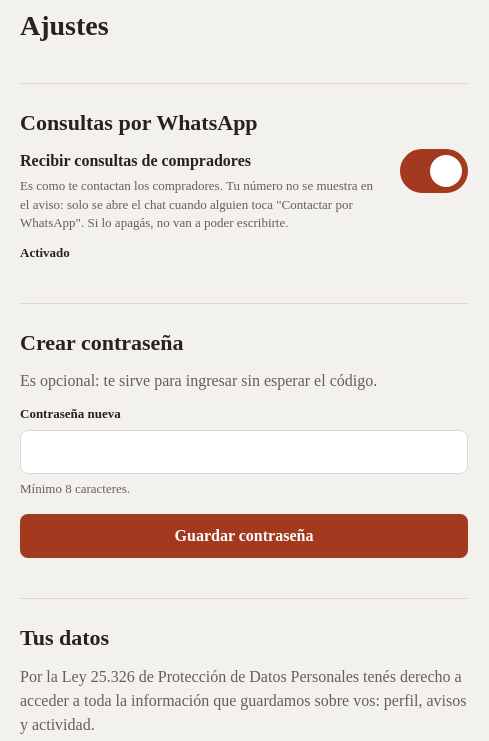
Test: /ajustes — contraseña, exportación y errores › crea la contraseña sin pedir la actual
Type "corta" into the password field labelled "Contraseña nueva" at (244, 452), box 20,430 -> 468,474
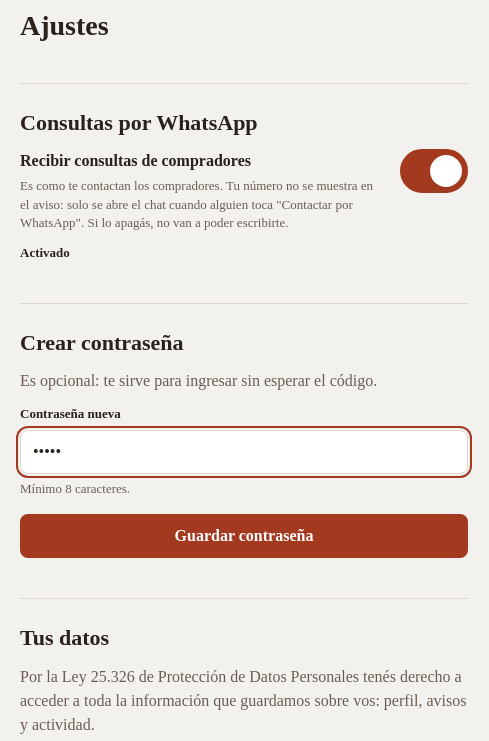
Click the button "Guardar contraseña" at (244, 536), box 20,514 -> 468,558
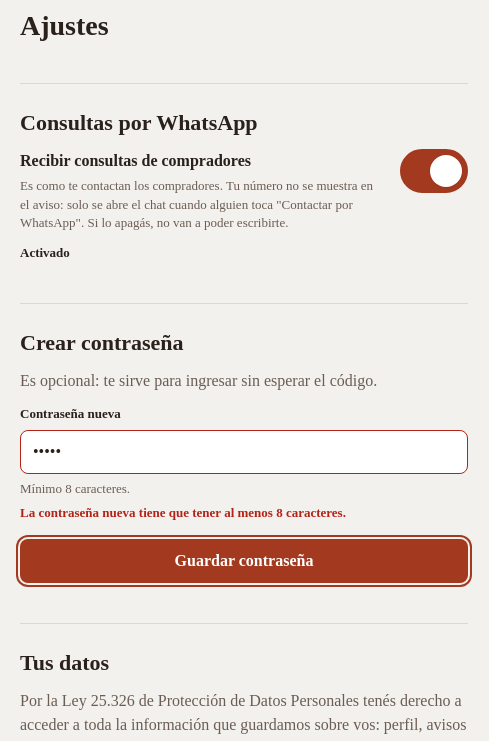
Check: the text "La contraseña nueva tiene que tener al menos 8 caracteres." is shown, box 20,505 -> 346,520
Type "segura1" into the password field labelled "Contraseña nueva" at (244, 452), box 20,430 -> 468,474
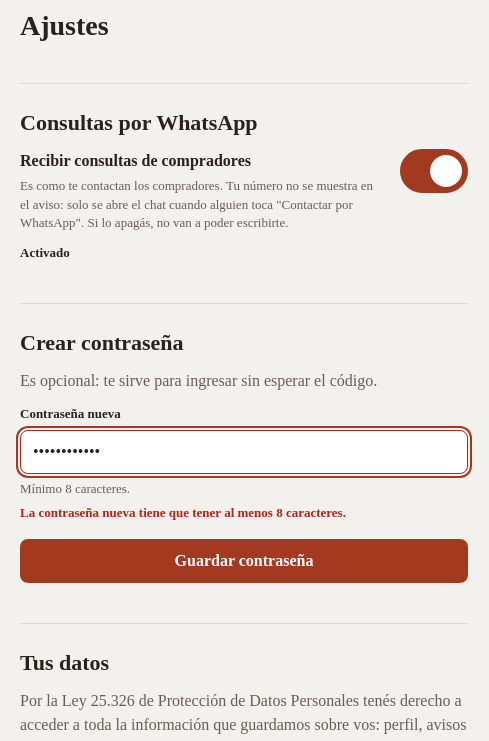
Click the button "Guardar contraseña" at (244, 561), box 20,539 -> 468,583
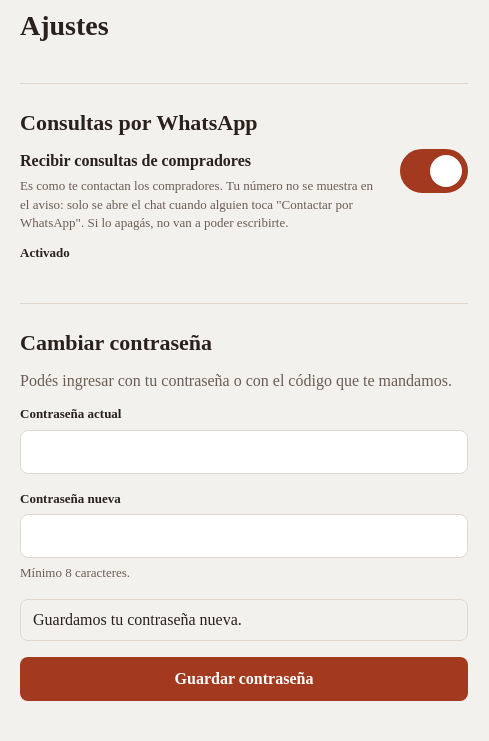
Check: the text "Guardamos tu contraseña nueva." is shown, box 20,599 -> 468,641
Check: the password field labelled "Contraseña nueva" is empty, box 20,514 -> 468,558
Check: the heading "Cambiar contraseña" is shown, box 20,330 -> 212,355
